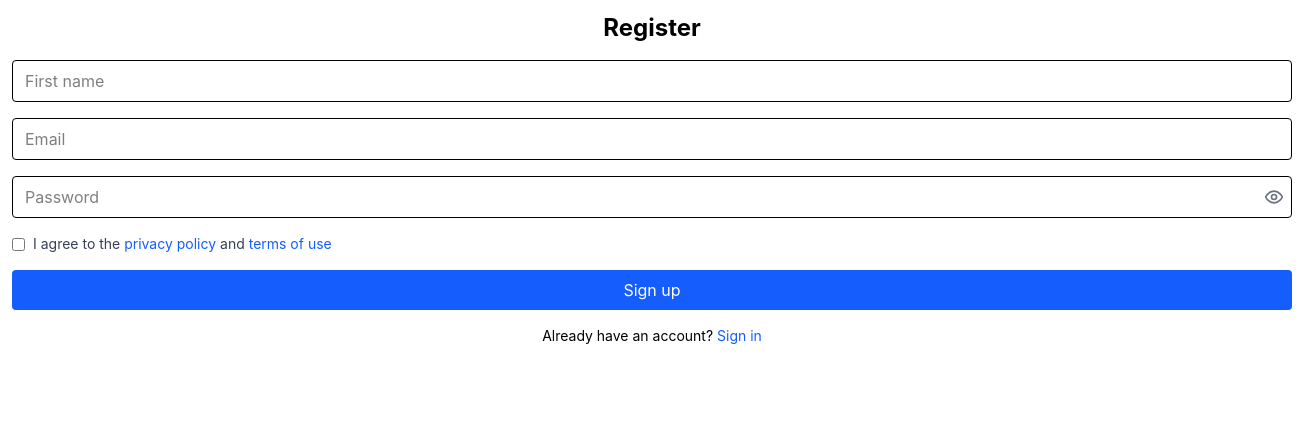
Test: RegisterPage › shows validation errors for empty fields
Click the button "Sign up" at [652, 290], box [12,270,1292,310]
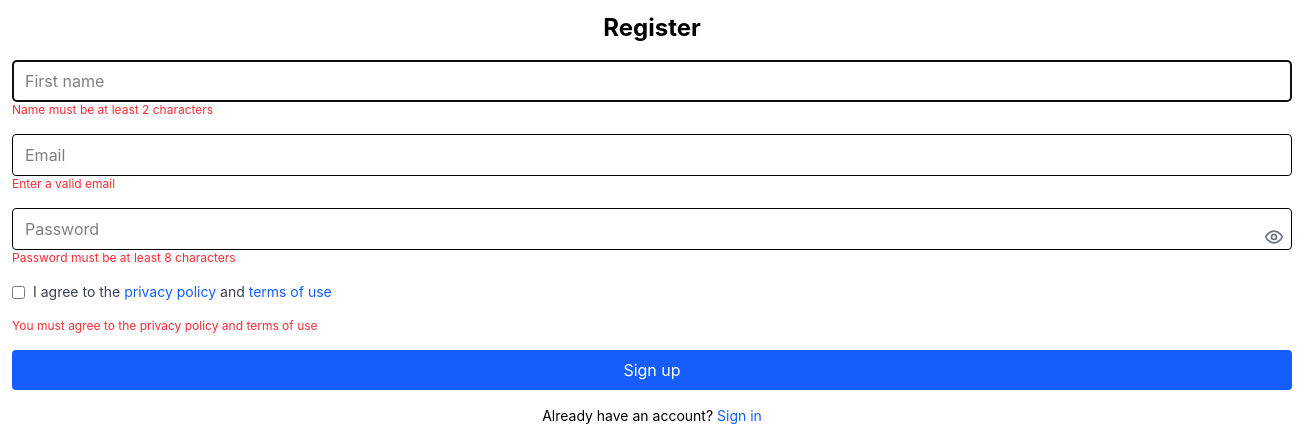
Check: the text "Name must be at least 2 characters" is shown, box [12,102,213,117]
Check: the text "Enter a valid email" is shown, box [12,176,115,191]
Check: the text "Password must be at least 8 characters" is shown, box [12,250,236,265]
